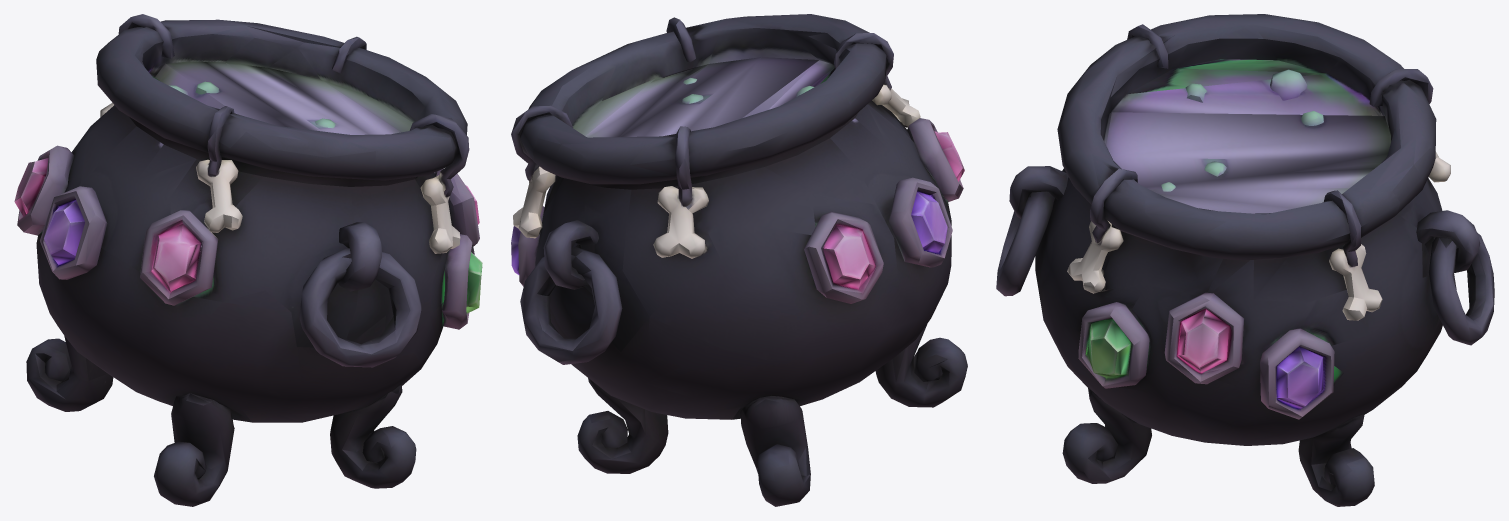
File: S3_Cauldron_LOD2.fbx
3 views of the same model, side by side, from view 1: azimuth 30°, elevation 25°; view 2: azimuth 150°, elevation 25°; view 3: azimuth 270°, elevation 25° (orthographic).
Parts seen in each view (by area): view 1: S3_Cauldron_LOD2; view 2: S3_Cauldron_LOD2; view 3: S3_Cauldron_LOD2.
Part boxes in pixels (bbox=[...]): S3_Cauldron_LOD2: bbox=[14, 14, 482, 506]; S3_Cauldron_LOD2: bbox=[511, 14, 967, 506]; S3_Cauldron_LOD2: bbox=[996, 14, 1494, 506].
Size of the model in its own units: 0.1769 by 0.1695 by 0.1905.
1 material, 1 textured.
